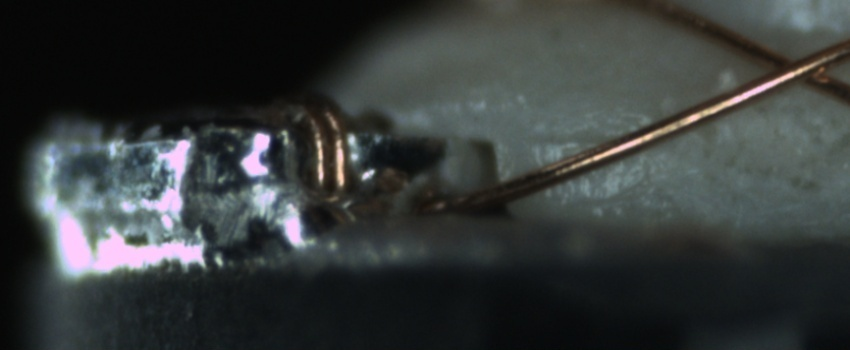CL: (743, 38, 844, 98)
DL: (530, 110, 640, 168)
TE: (297, 96, 350, 219)
